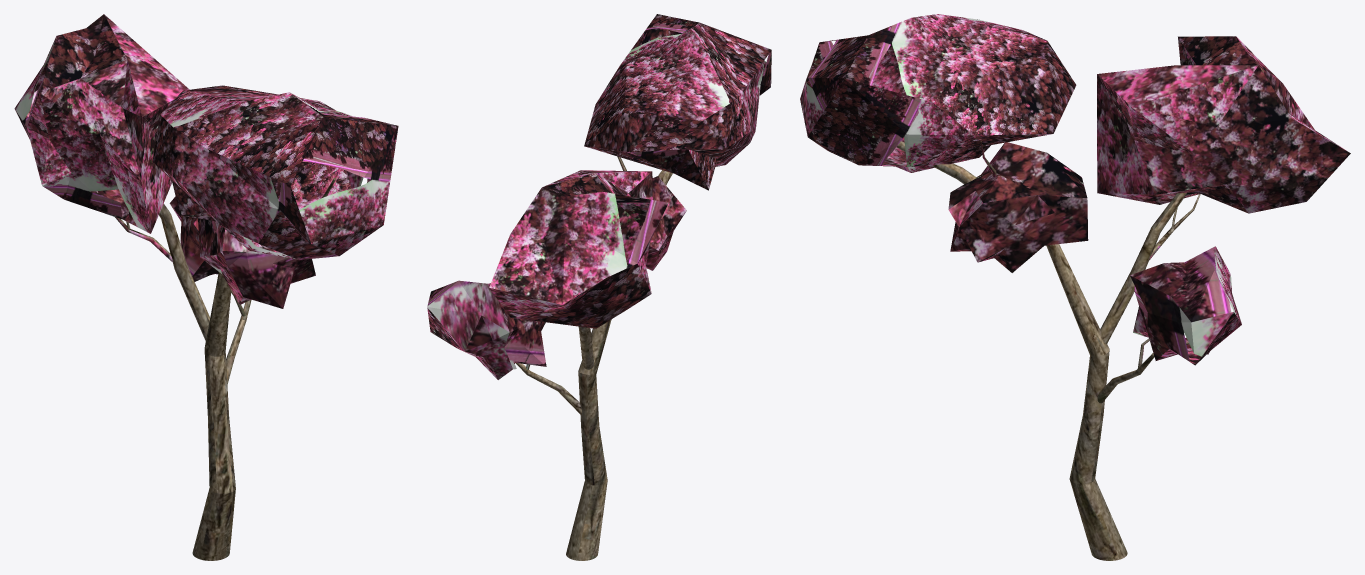
The model's file is PurplePlantNormal.fbx.
3 renders of one model, left to right at view 1: azimuth 30°, elevation 25°; view 2: azimuth 150°, elevation 25°; view 3: azimuth 270°, elevation 25°, orthographic. The views are drawn at different scales.
Parts seen in each view (by area): view 1: PurplePlantNormal; view 2: PurplePlantNormal; view 3: PurplePlantNormal.
Part boxes in pixels (box(x1,y1,x2,y2)): PurplePlantNormal: box(14, 14, 398, 560); PurplePlantNormal: box(427, 14, 771, 560); PurplePlantNormal: box(800, 14, 1350, 560).
Size of the model in its own units: 0.4861 by 0.8898 by 0.9339.
